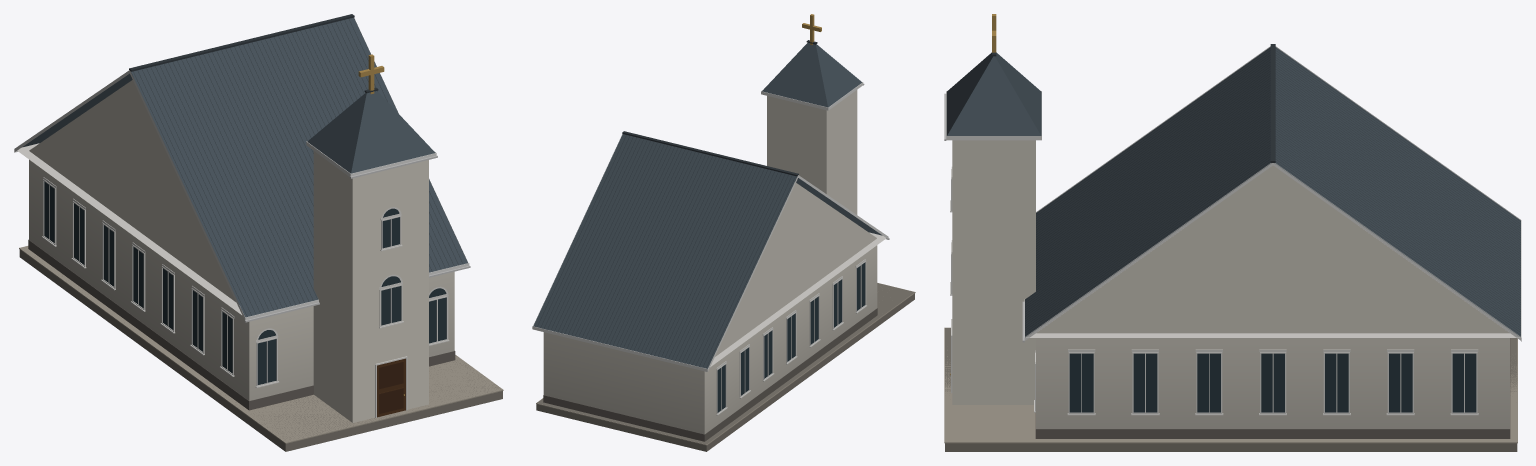
File: ns_church.glb
3 renders of one model, left to right at view 1: azimuth 30°, elevation 25°; view 2: azimuth 150°, elevation 25°; view 3: azimuth 270°, elevation 25°, orthographic. The views are drawn at different scales.
Parts seen in each view (by area): view 1: ns_church; view 2: ns_church; view 3: ns_church.
Boxes of the visible parts, x1,y1,x2,y2 form: ns_church: (14,14,503,451); ns_church: (532,14,915,451); ns_church: (944,14,1521,451).
Bounding box in the file's own units: 15.32 × 23 × 31.66.
